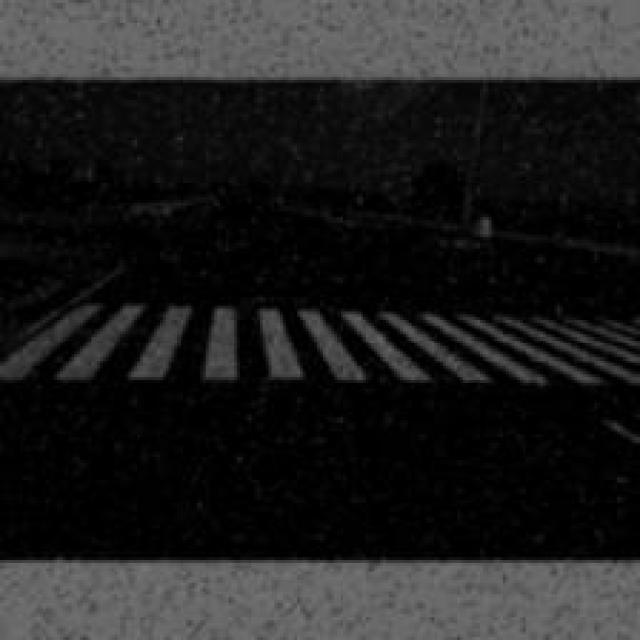crosswalk: (0, 299, 640, 393)
